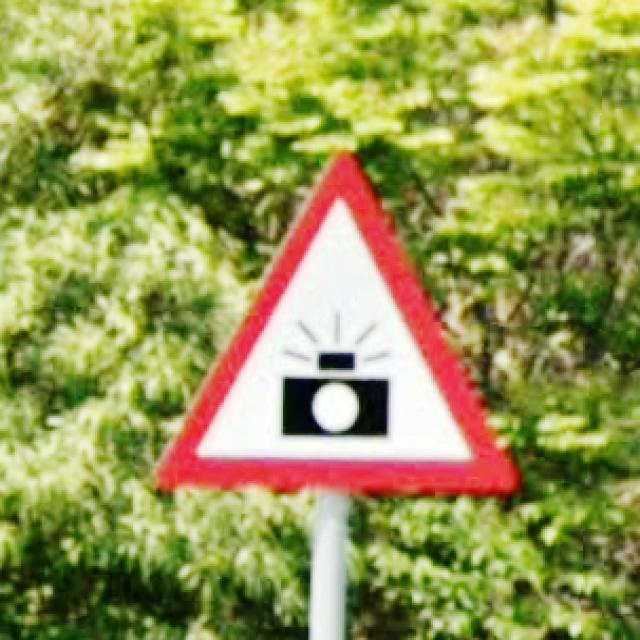speedcamera: (150, 146, 522, 501)
